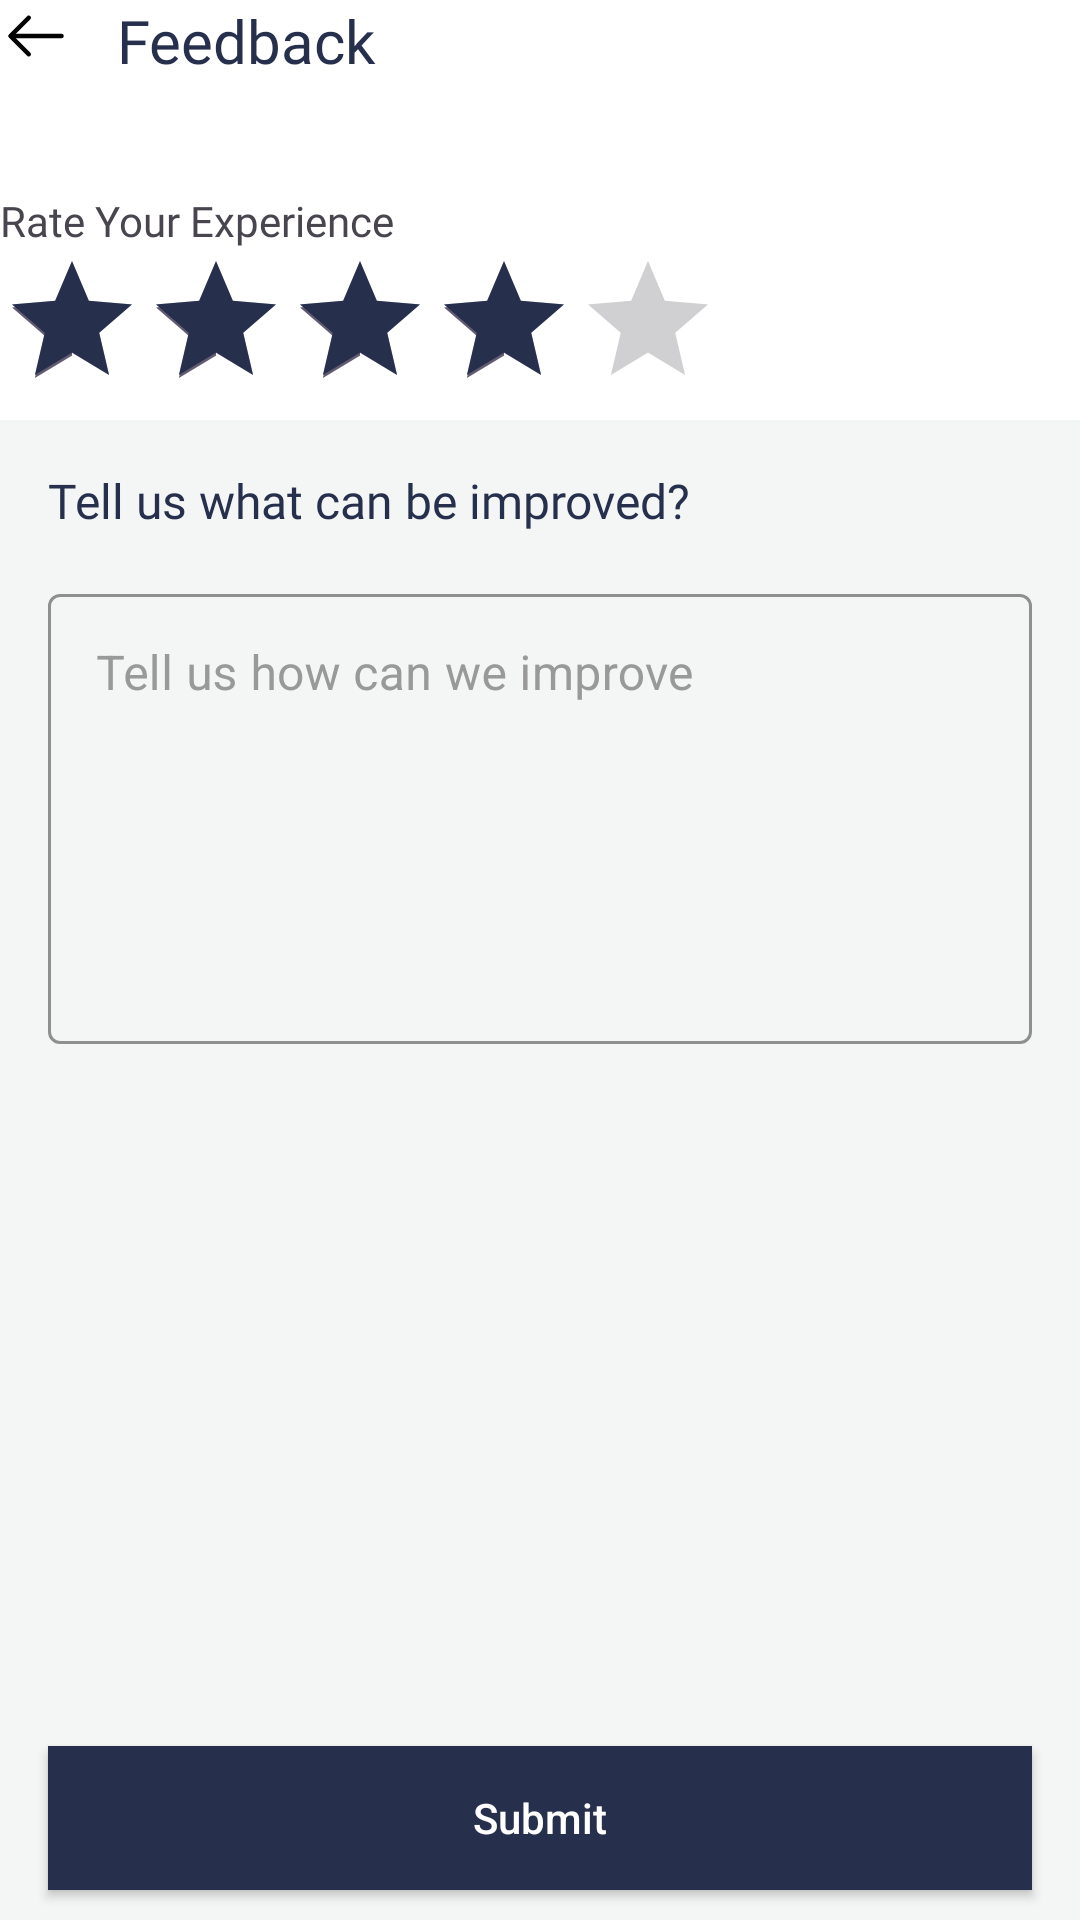

Icon bounding boxes for this 1080px x 1920px phone screenshot, format (x1, y1, x2, y2):
arrow left: (8, 15, 64, 57)
